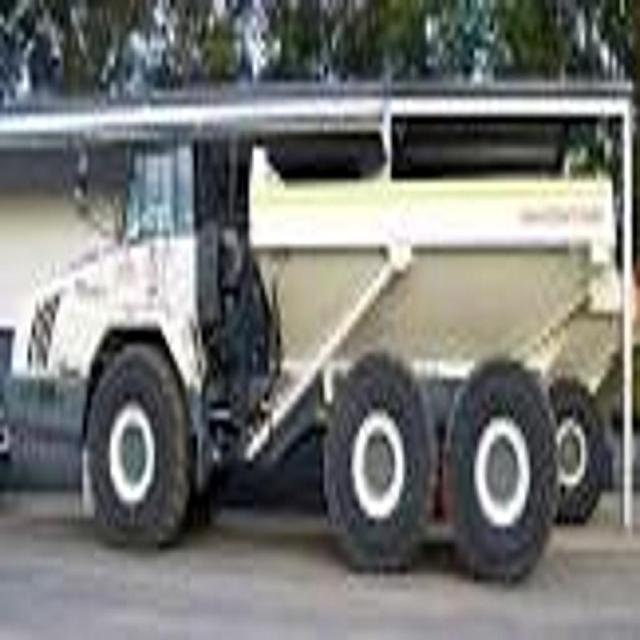dump_truck: (4, 114, 639, 587)
